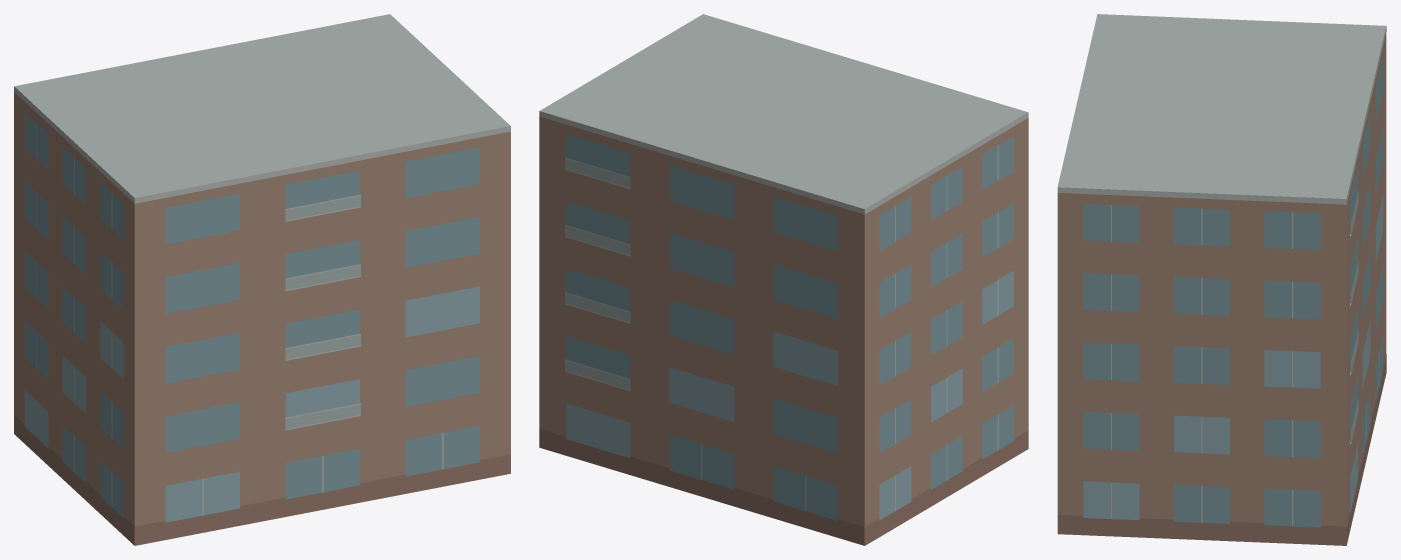
Rendered from survey-upis-32641911.glb.
3 views of the same model, side by side, from view 1: azimuth 30°, elevation 25°; view 2: azimuth 150°, elevation 25°; view 3: azimuth 270°, elevation 25° (orthographic). The views are drawn at different scales.
Parts seen in each view (by area): view 1: survey-upis-32641911.tmp; view 2: survey-upis-32641911.tmp; view 3: survey-upis-32641911.tmp.
Part boxes in pixels (x1,y1,x2,y2): survey-upis-32641911.tmp: (14, 14, 510, 545); survey-upis-32641911.tmp: (539, 14, 1028, 545); survey-upis-32641911.tmp: (1057, 14, 1386, 545).
Bounding box in the file's own units: 17.47 × 15.25 × 13.12.
